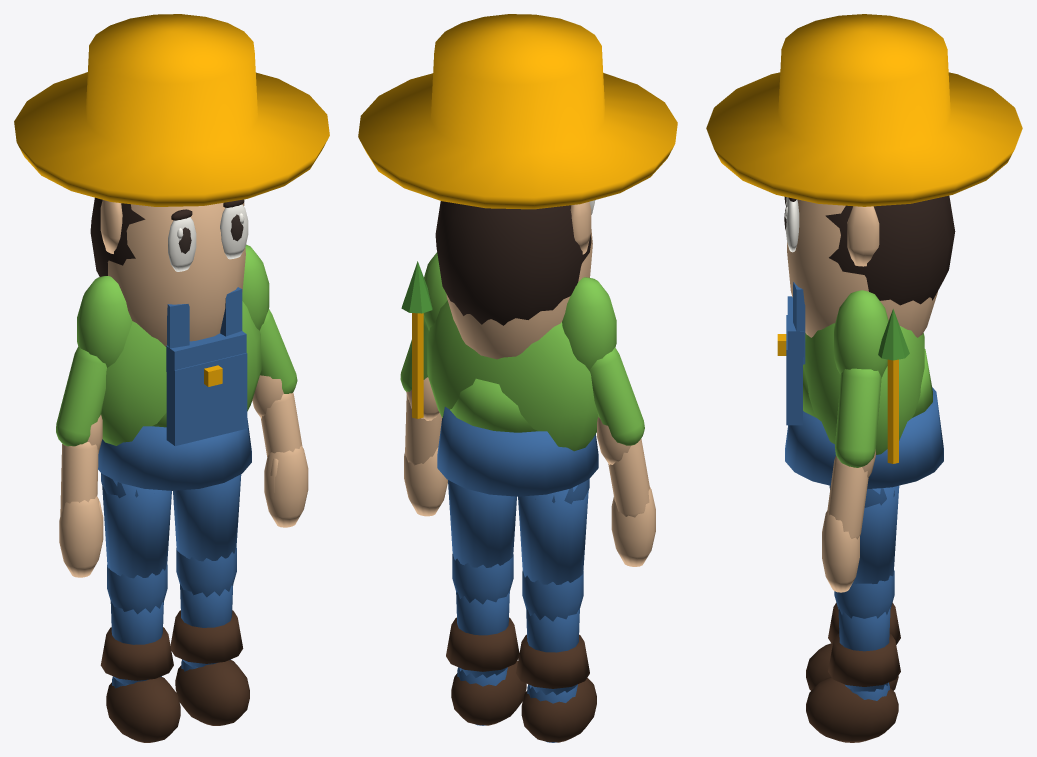
The model's file is char_farmer.glb.
The picture shows the model from 3 angles, left to right: view 1: azimuth 30°, elevation 25°; view 2: azimuth 150°, elevation 25°; view 3: azimuth 270°, elevation 25°; orthographic projection.
Visible parts, largest first — view 1: char_farmer; view 2: char_farmer; view 3: char_farmer.
Boxes of the visible parts, x1,y1,x2,y2 form: char_farmer: [14, 14, 329, 742]; char_farmer: [358, 14, 677, 742]; char_farmer: [706, 14, 1022, 742].
Size of the model in its own units: 0.572 by 1.37 by 0.572.
